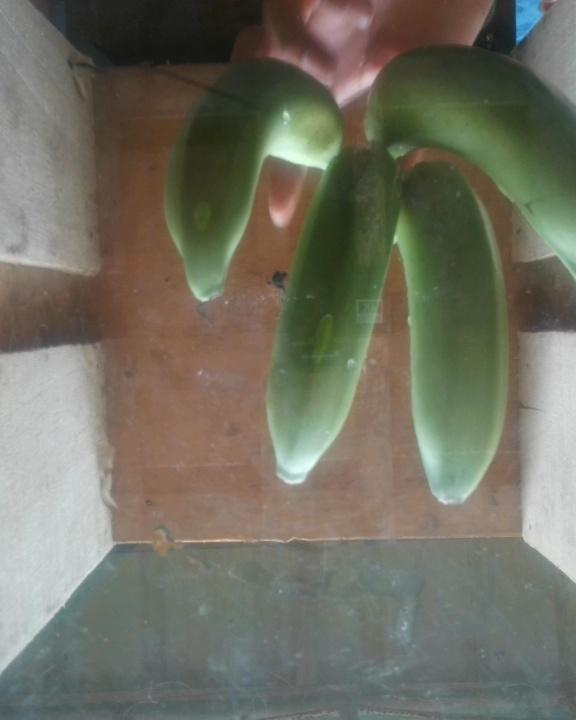SPOT: (144, 36, 576, 516)
